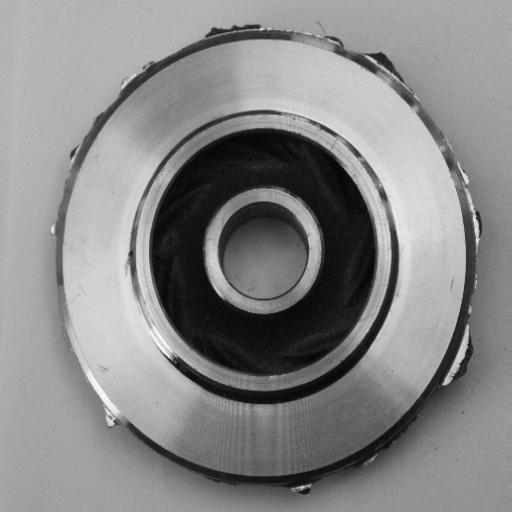casting_with_burr: (45, 19, 486, 499)
scratch: (119, 268, 192, 373)
